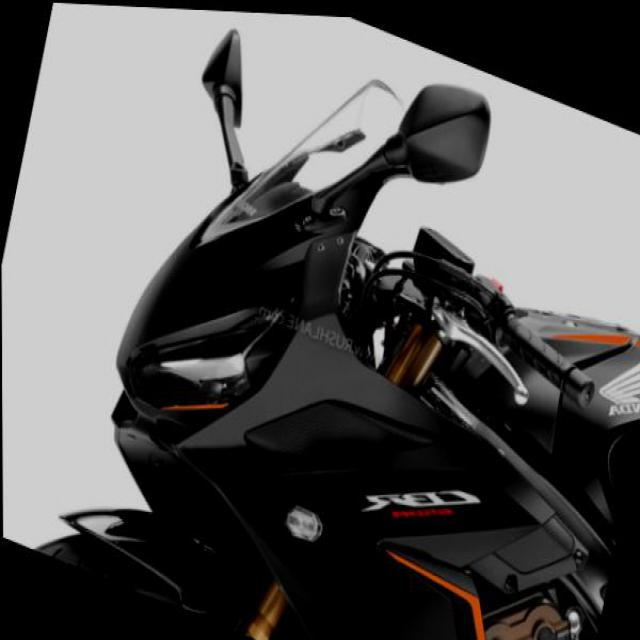CBR650R: (26, 0, 639, 639)
